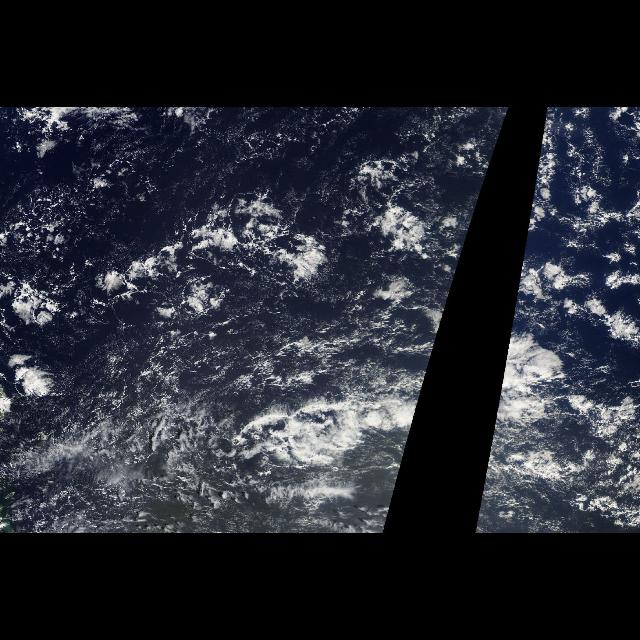Gravel: (0, 114, 360, 534)
Sugar: (38, 334, 260, 534)
